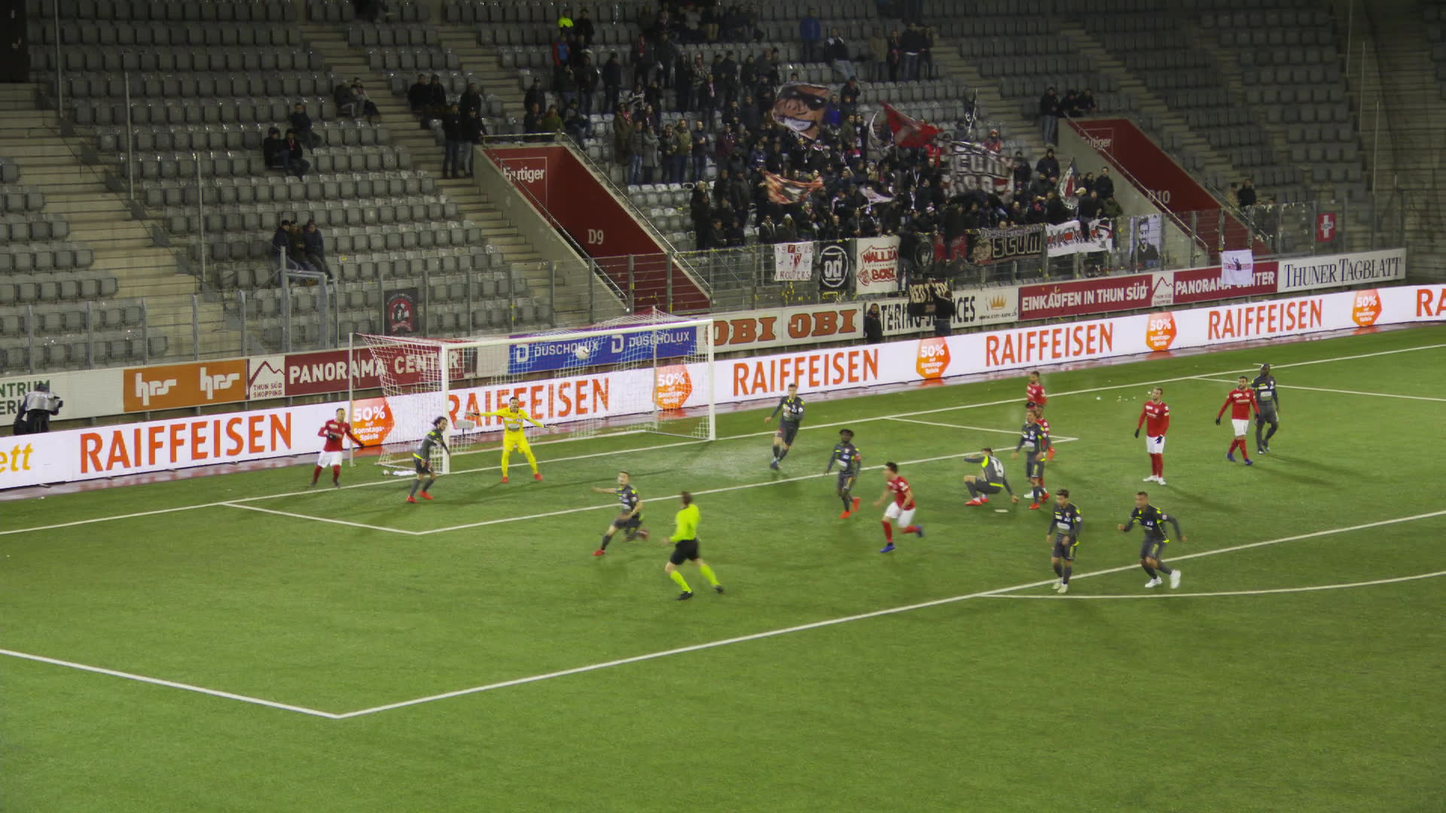ball: (576, 347, 587, 358)
player: (465, 397, 550, 482), (1116, 491, 1187, 589), (590, 470, 648, 556), (305, 407, 364, 489), (873, 462, 921, 554), (1043, 487, 1083, 593), (406, 416, 451, 504), (1216, 375, 1259, 467), (1012, 407, 1048, 510), (1133, 388, 1170, 485), (763, 382, 804, 467), (962, 447, 1018, 506), (823, 428, 859, 516), (1031, 406, 1060, 509), (1249, 362, 1279, 452), (1023, 370, 1044, 408)
referee: (660, 490, 724, 599)
